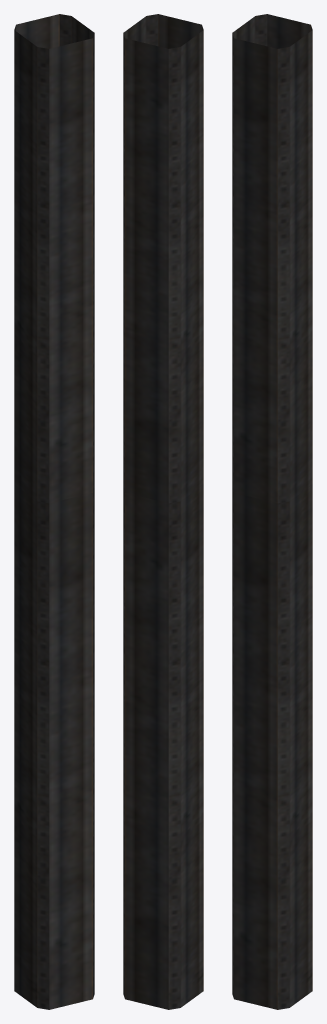
The model's file is lab_flat_glass_welder_4way.dae.
3 renders of one model, left to right at view 1: azimuth 30°, elevation 25°; view 2: azimuth 150°, elevation 25°; view 3: azimuth 330°, elevation 25°, orthographic.
Visible parts, largest first — view 1: polySurface26; view 2: polySurface26; view 3: polySurface26.
Part boxes in pixels (bbox=[...]): polySurface26: bbox=[14, 14, 94, 1009]; polySurface26: bbox=[123, 14, 203, 1009]; polySurface26: bbox=[232, 14, 312, 1009].
Size of the model in its own units: 0.25 by 4 by 0.25.
